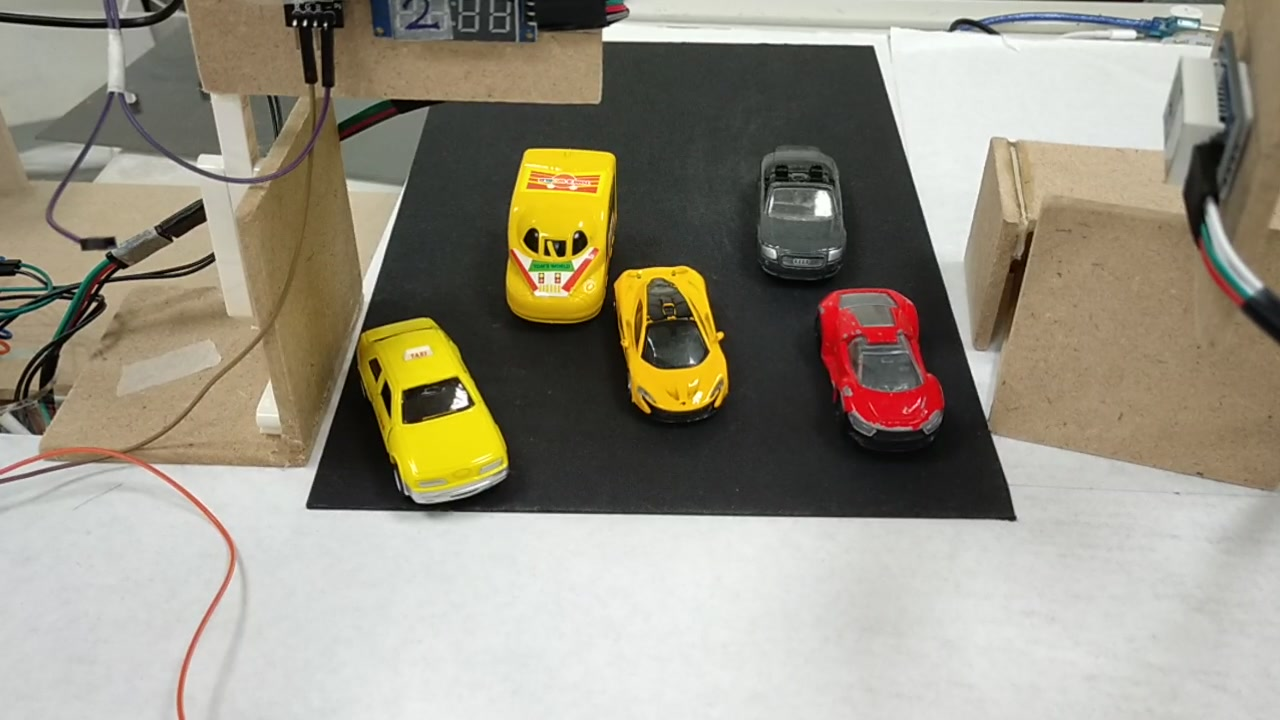car: (352, 323, 508, 497), (811, 287, 942, 452), (608, 266, 730, 416), (752, 145, 846, 279)
